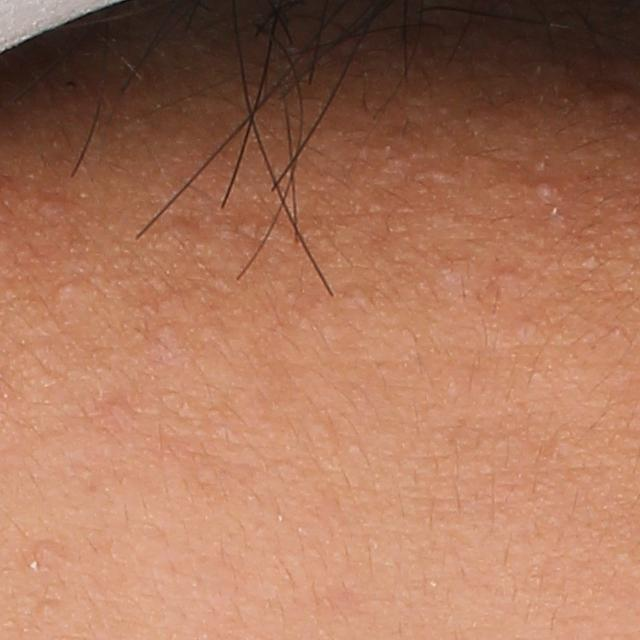comedo: (234, 208, 303, 250), (528, 171, 567, 206), (54, 276, 86, 304)
